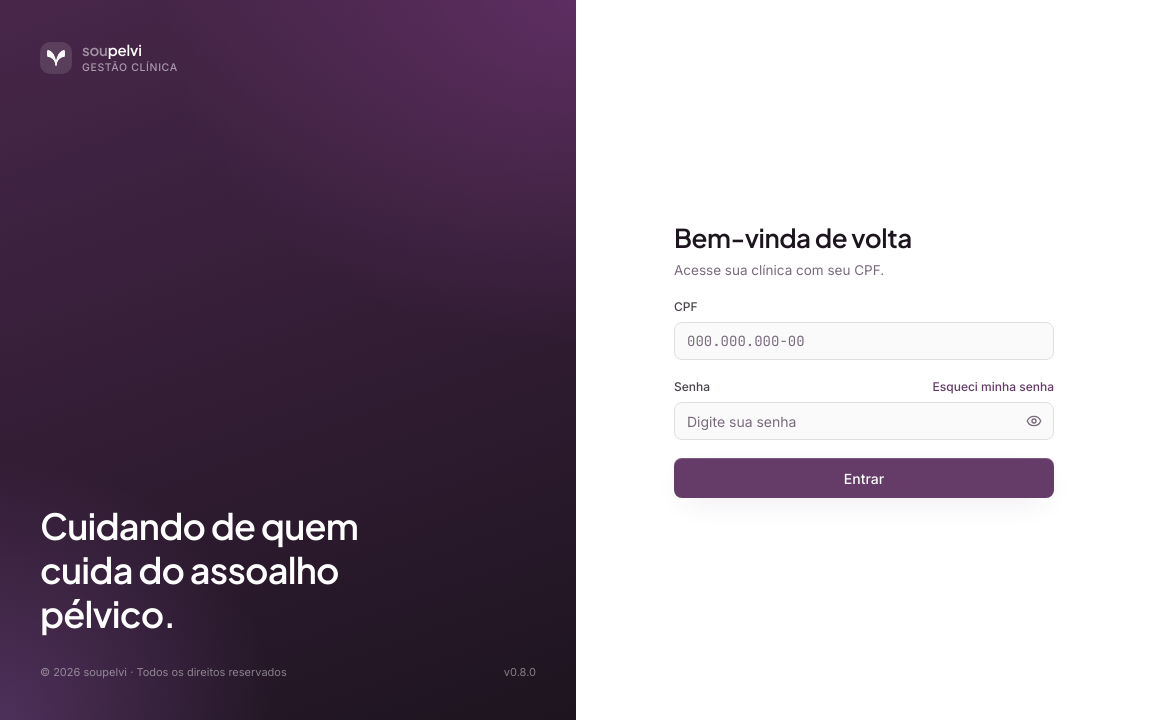
Login page › applies CPF mask as user types
This screenshot has width=1152, height=720.
Type "11111111111" into the field labelled "CPF". click: (864,341)
box: [674,322,1054,360]
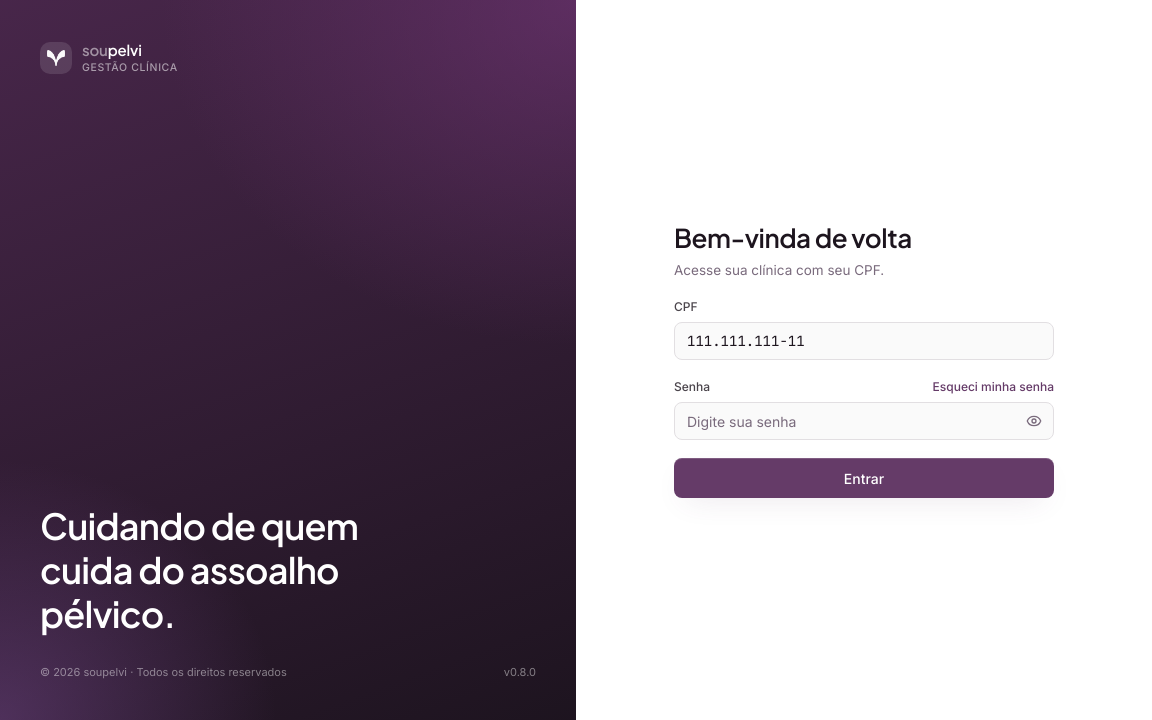
Check: the field labelled "CPF" holds "111.111.111-11", box [674,322,1054,360]
